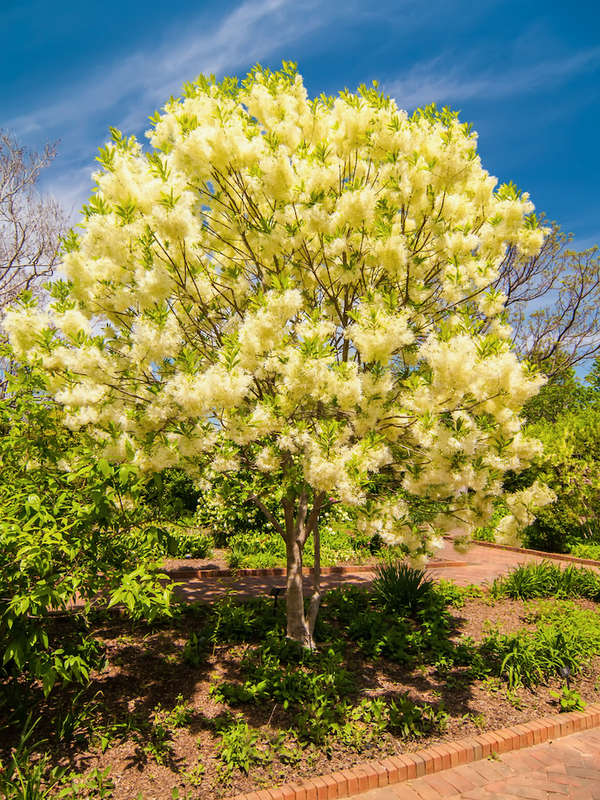dirt: (7, 582, 594, 793)
tree: (270, 500, 319, 648)
